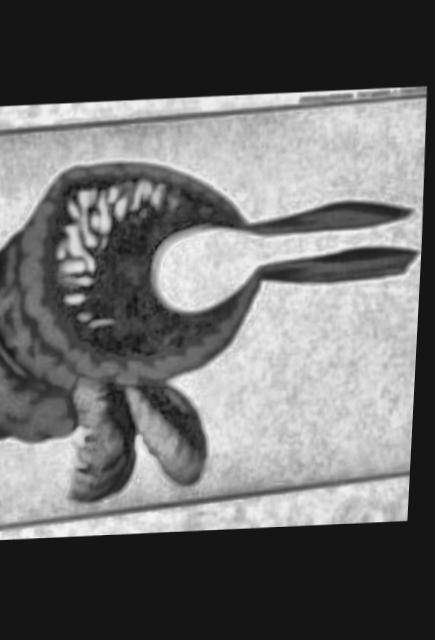El Gorrito: (0, 97, 427, 527)
